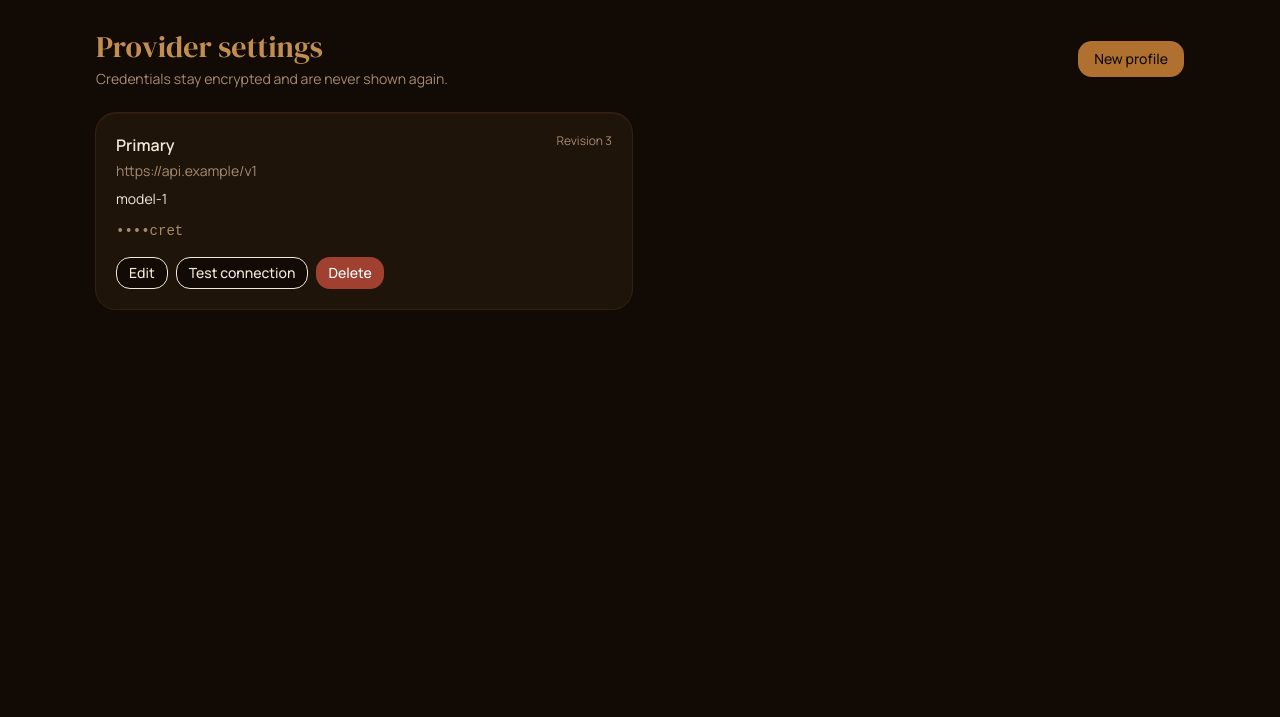
Test: SettingsPage › reuses saved credentials and preserves a current missing model
Expected: the heading "Primary" is shown, 116,134 -> 174,156
Click the button with aria-label "Edit Primary": (142, 273) 116,257 -> 168,289
Wait 900 ms
(page scrolled)
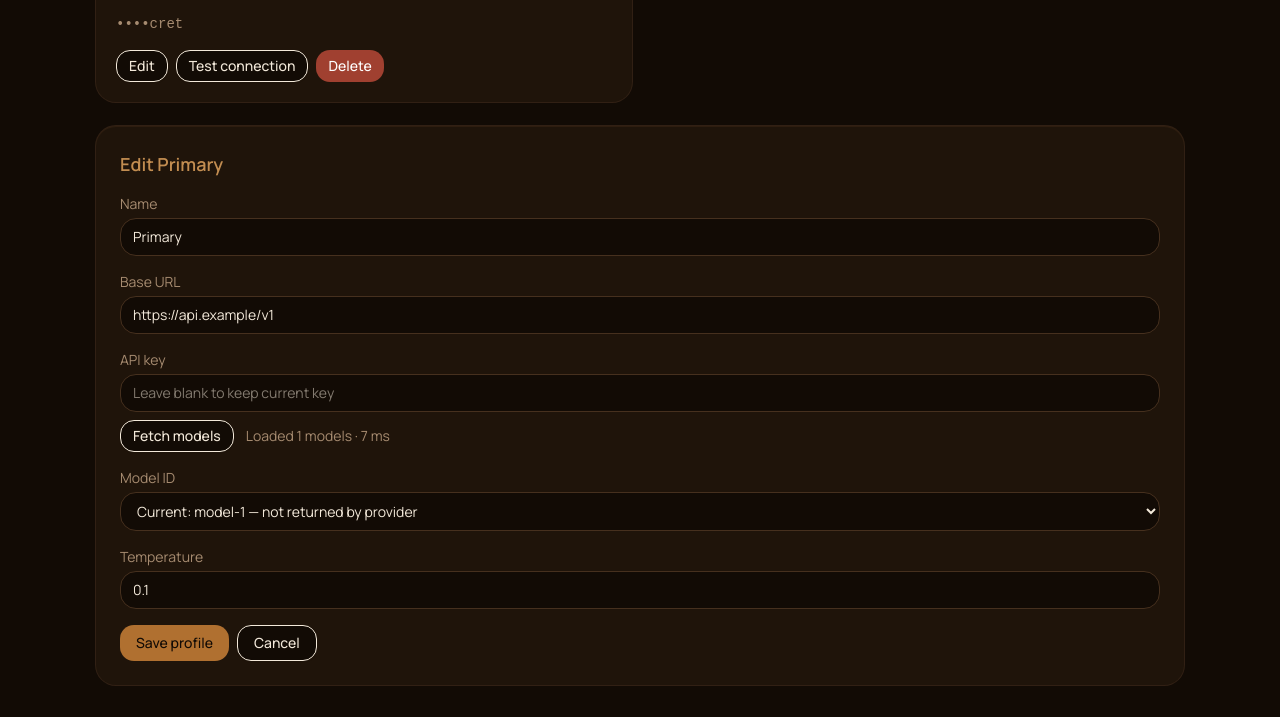
Now the dropdown labelled "Model ID" shows "Current: model-1 — not returned by provider", box 120,492 -> 1160,531
